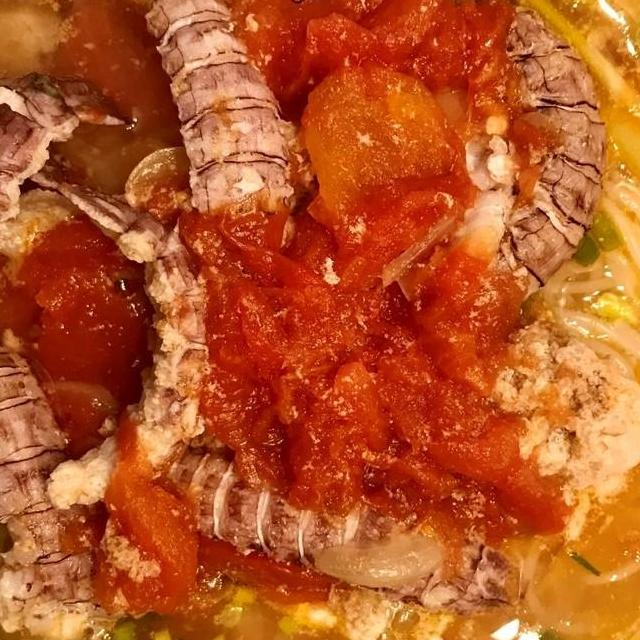bun: (516, 168, 640, 402)
bun hai san: (0, 0, 640, 640)
tom tit: (2, 142, 222, 520), (145, 428, 538, 624), (0, 67, 151, 497), (92, 0, 319, 273), (458, 0, 613, 318), (0, 334, 113, 640)
